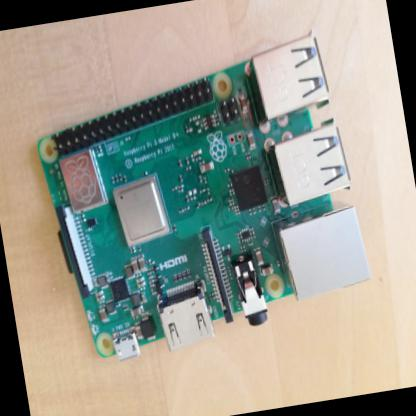Raspberry_Pi_3: (19, 21, 391, 375)
